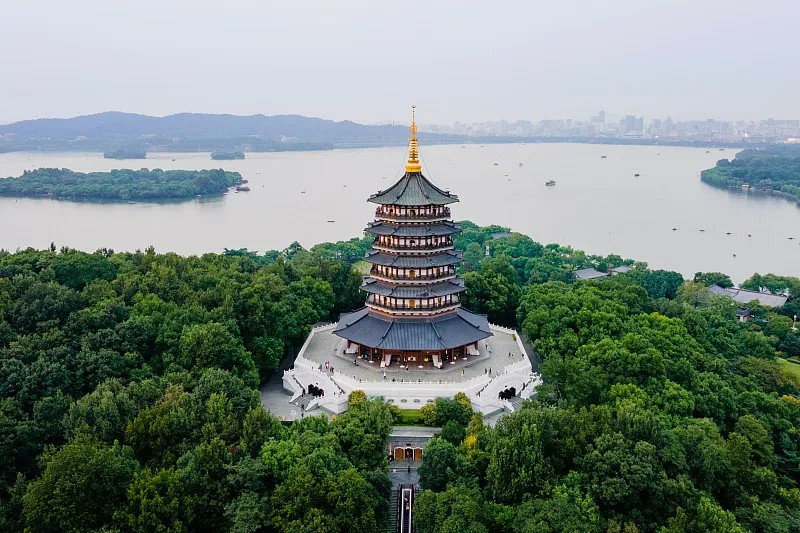Leifeng: (330, 107, 494, 373)
